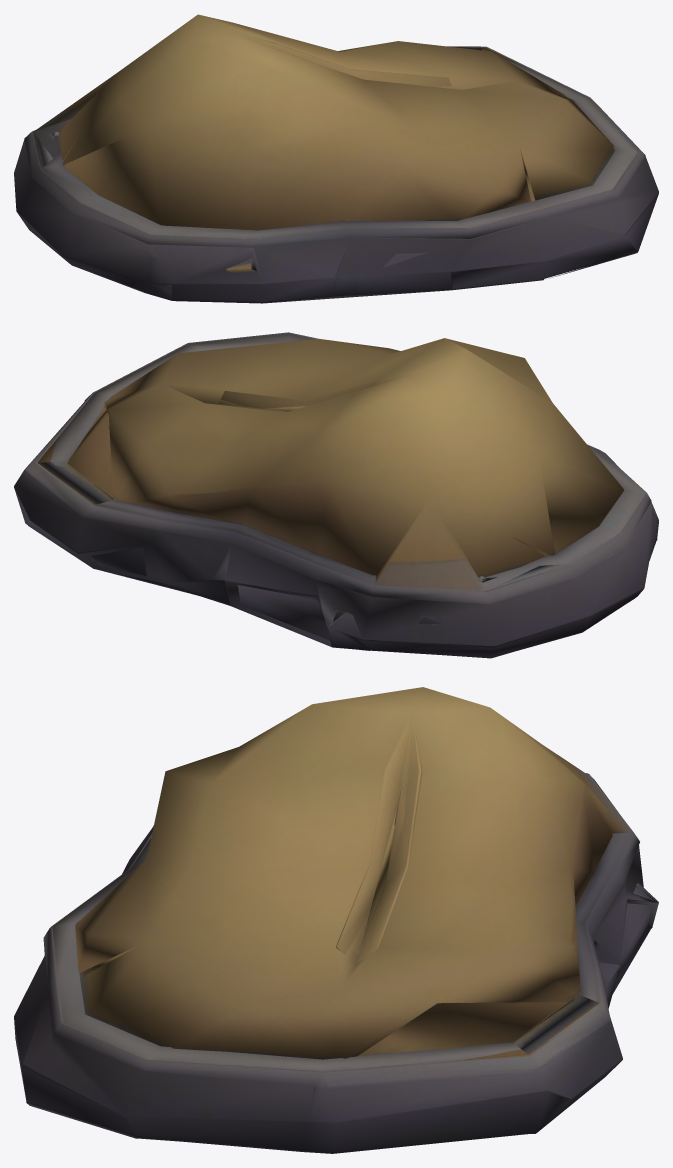
File: earth_nourish_t3.glb
3 views of the same model, one above another, from view 1: azimuth 30°, elevation 25°; view 2: azimuth 150°, elevation 25°; view 3: azimuth 270°, elevation 25° (orthographic). The views are drawn at different scales.
Visible parts, largest first — view 1: tripo_node_a79085ab-9fd1-4405-8839-3d7e2717f3d4; view 2: tripo_node_a79085ab-9fd1-4405-8839-3d7e2717f3d4; view 3: tripo_node_a79085ab-9fd1-4405-8839-3d7e2717f3d4.
Boxes of the visible parts, box(x1,y1,x2,y2) form: tripo_node_a79085ab-9fd1-4405-8839-3d7e2717f3d4: box(14, 14, 658, 303); tripo_node_a79085ab-9fd1-4405-8839-3d7e2717f3d4: box(14, 332, 658, 658); tripo_node_a79085ab-9fd1-4405-8839-3d7e2717f3d4: box(14, 687, 658, 1153).
Bounding box in the file's own units: 0.998 × 0.3184 × 0.8066.
1 material, 1 textured.
